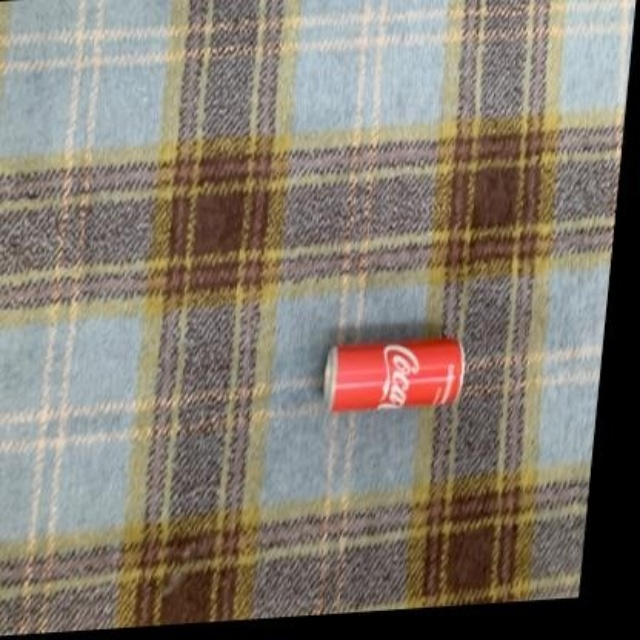trash: (325, 338, 463, 411)
